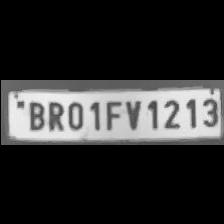0: (63, 98, 85, 130)
1: (84, 97, 103, 130), (141, 95, 159, 129), (181, 95, 199, 127)
2: (158, 95, 182, 129)
3: (199, 94, 219, 128)
B: (23, 98, 44, 130)
F: (101, 97, 121, 130)
R: (43, 98, 63, 132)
V: (120, 96, 144, 130)
